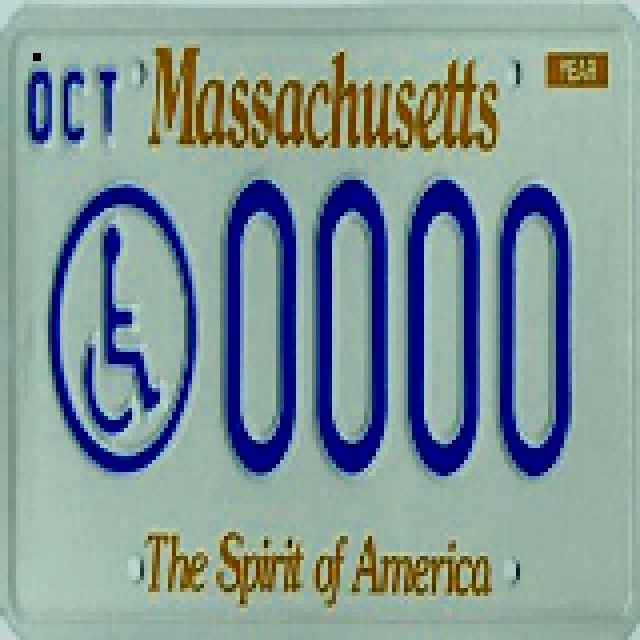ISA: (81, 218, 159, 442)
